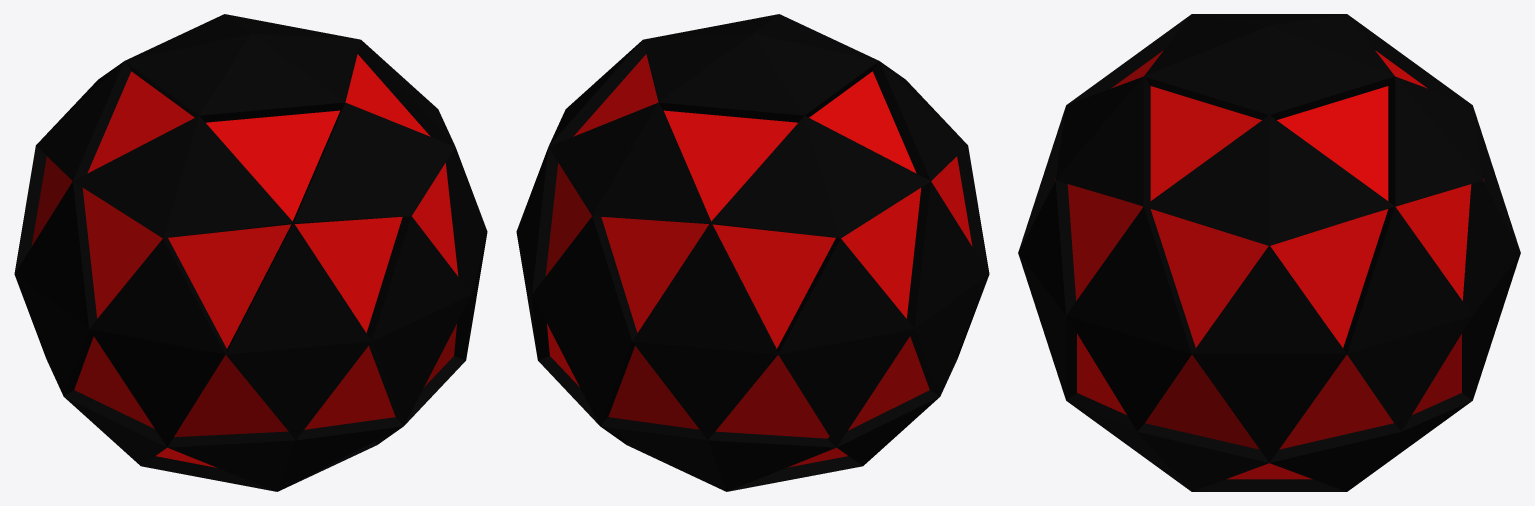
Rendered from collecteble 3.fbx.
The picture shows the model from 3 angles, left to right: view 1: azimuth 30°, elevation 25°; view 2: azimuth 150°, elevation 25°; view 3: azimuth 270°, elevation 25°; orthographic projection. The views are drawn at different scales.
Parts seen in each view (by area): view 1: Icosphere; view 2: Icosphere; view 3: Icosphere.
Boxes of the visible parts, box(x1,y1,x2,y2) form: Icosphere: box(14, 14, 487, 491); Icosphere: box(516, 14, 989, 491); Icosphere: box(1018, 14, 1520, 491).
Size of the model in its own units: 0.856 by 0.9 by 0.9.
